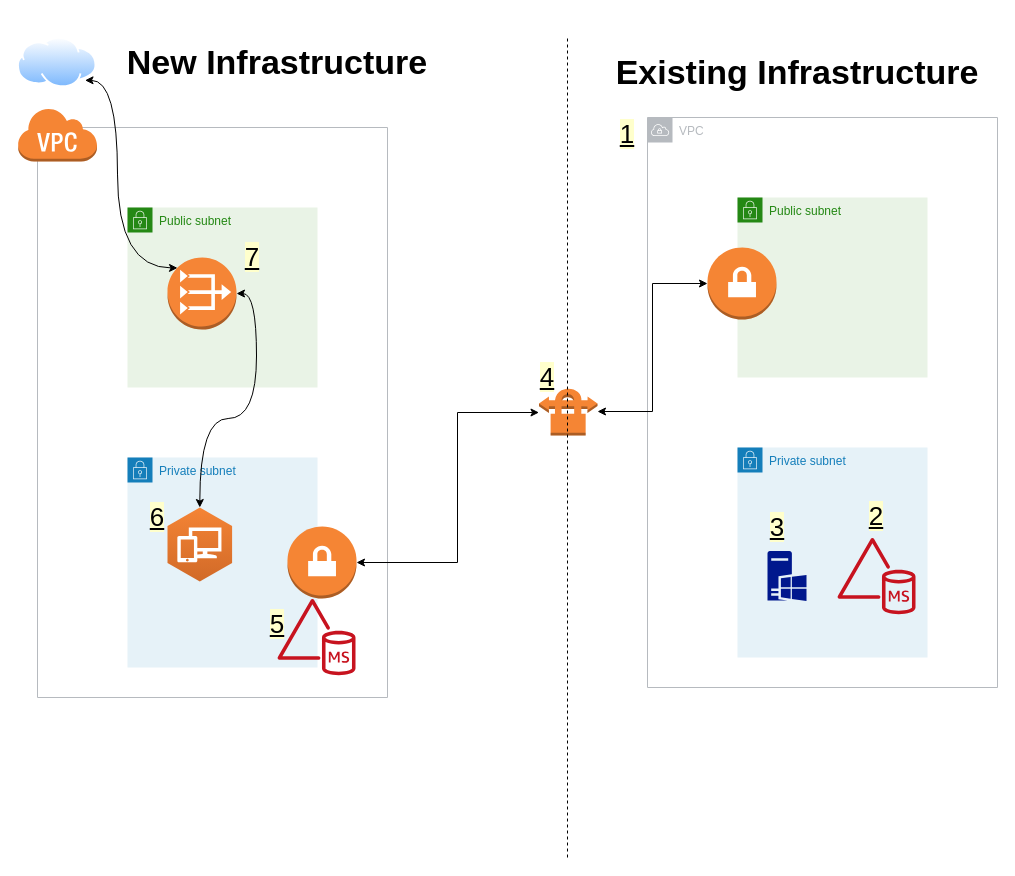
This 1015x876 diagram has some shape labels left out. The shapes that lost their labels are listed below. From the top down, each one's box as (x1, y1, x2, y2) in pixels, then its label:
(837, 537, 915, 614): Managed AD
(277, 598, 355, 675): Connector
